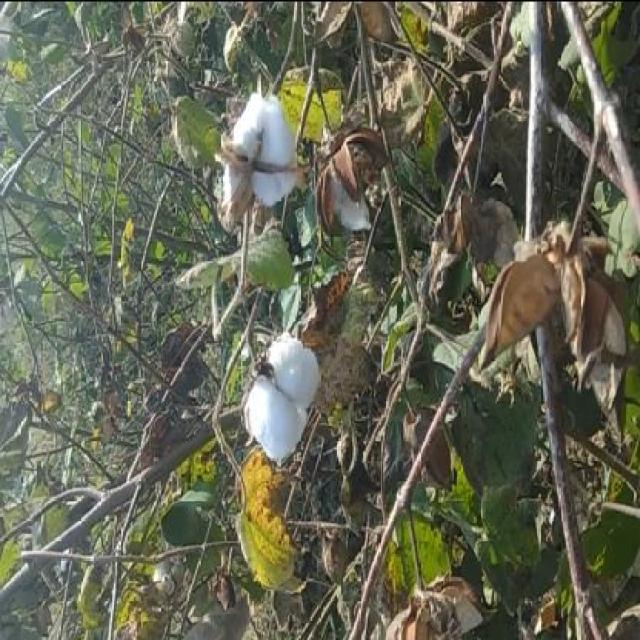cotton_ready: (231, 312, 338, 512), (221, 85, 307, 218)
